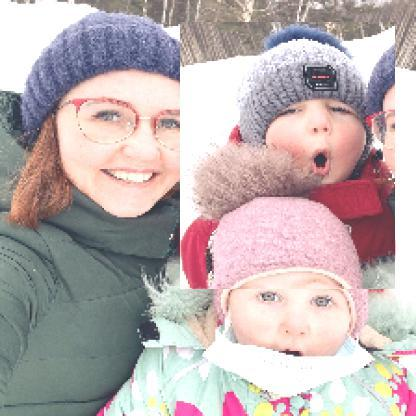child: (96, 196, 416, 415), (181, 23, 397, 291)
